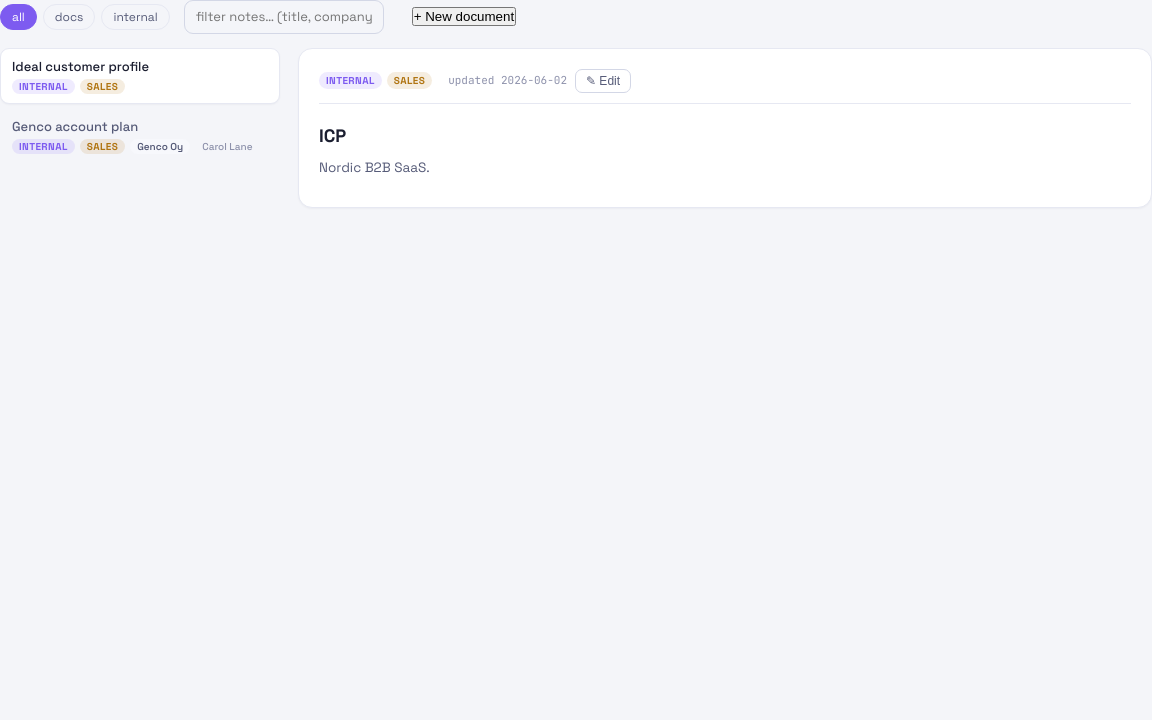
Documents (area-locked tab) › filters to the area, hides the area chips, and locks the editor's area
Check: the text "Genco account plan" is shown, box x1=12 y1=118 x2=138 y2=134
// the editor's area select is disabled (locked to the tab's area)
Click the button "+ New document": (464, 17) x1=412 y1=7 x2=516 y2=26
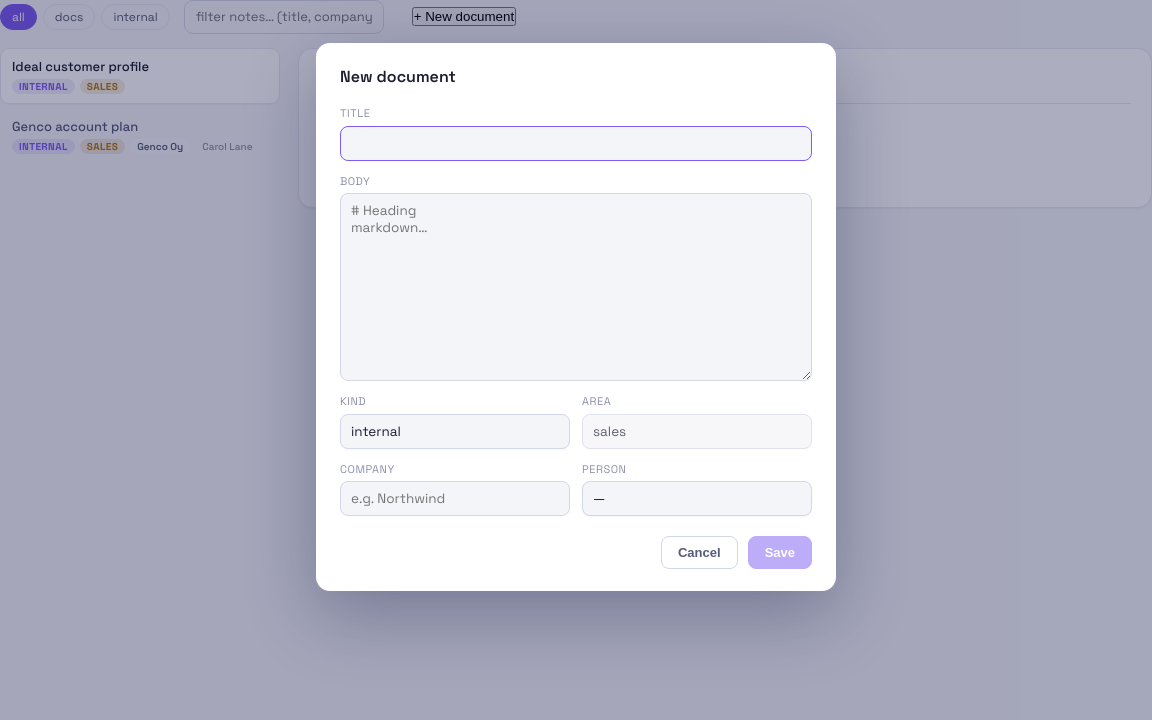
Check: the heading "New document" is shown, box x1=340 y1=66 x2=456 y2=87
Check: the dropdown labelled "area" is disabled, box x1=582 y1=414 x2=812 y2=449
